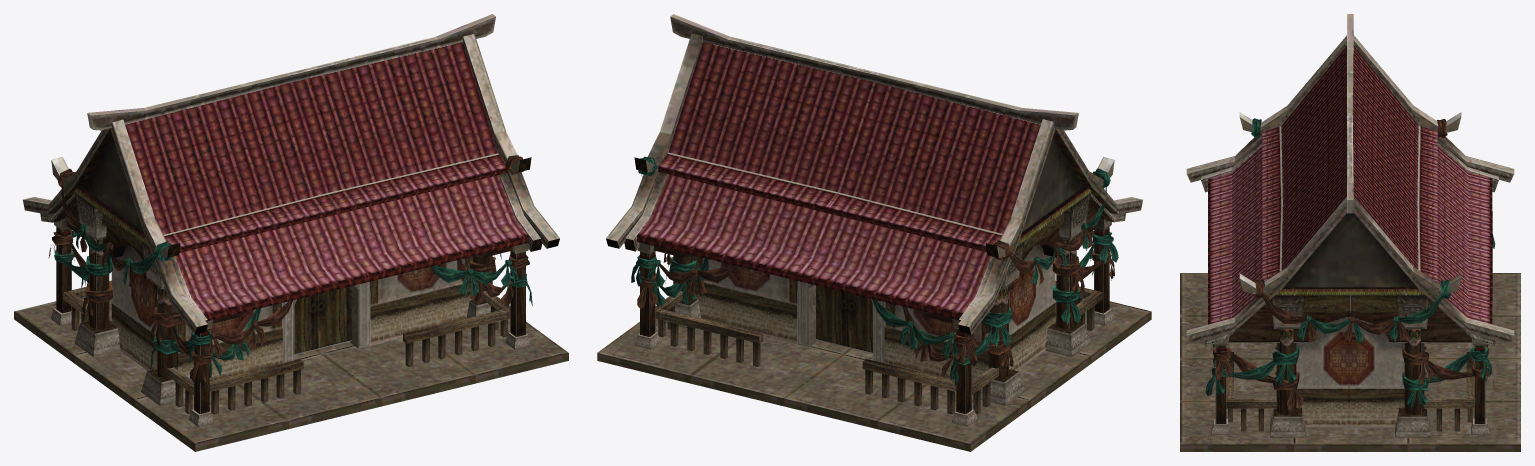
File: a1-rms-001.glb
3 renders of one model, left to right at view 1: azimuth 30°, elevation 25°; view 2: azimuth 150°, elevation 25°; view 3: azimuth 270°, elevation 25°, orthographic. The views are drawn at different scales.
Parts seen in each view (by area): view 1: Object01; view 2: Object01; view 3: Object01.
Part boxes in pixels (<box>): Object01: <box>14,14,568,451</box>; Object01: <box>597,14,1151,451</box>; Object01: <box>1180,14,1520,451</box>.
Size of the model in its own units: 11.98 by 7.77 by 9.27.
2 materials, 2 textured.
